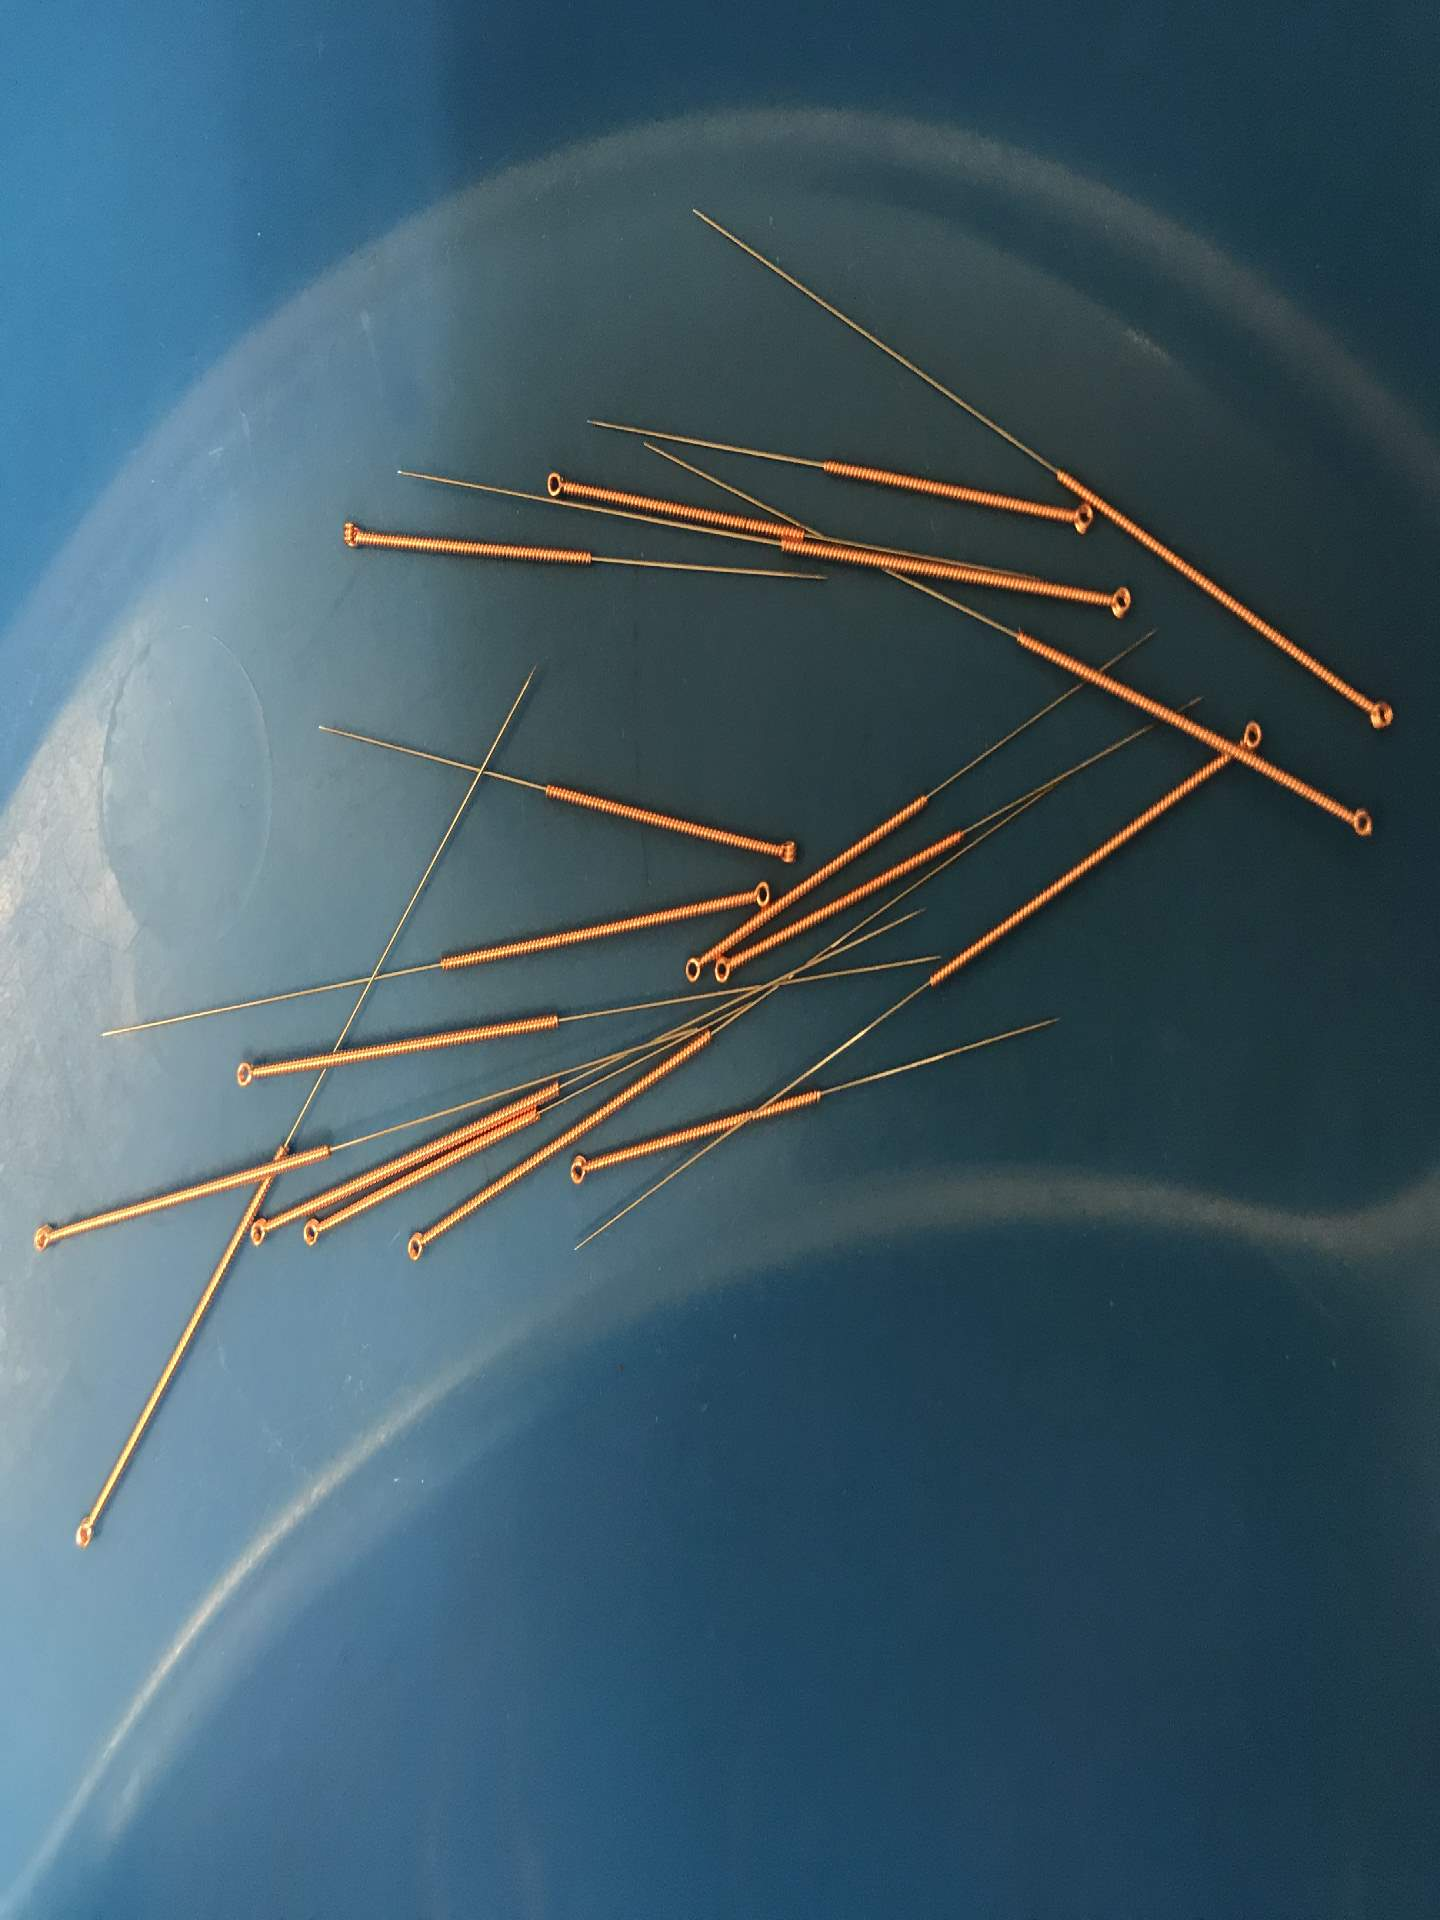needle: (1355, 691, 1404, 739), (1337, 797, 1383, 847), (1097, 579, 1139, 624), (333, 513, 374, 558), (399, 1223, 437, 1268), (227, 1055, 268, 1096), (27, 1217, 64, 1262), (67, 1509, 101, 1556), (563, 1150, 601, 1193), (1062, 497, 1098, 540), (538, 463, 573, 503), (296, 1212, 330, 1253), (678, 946, 709, 986), (768, 833, 802, 869), (743, 875, 774, 913), (247, 1212, 277, 1252), (711, 952, 743, 989), (1237, 715, 1268, 753)
